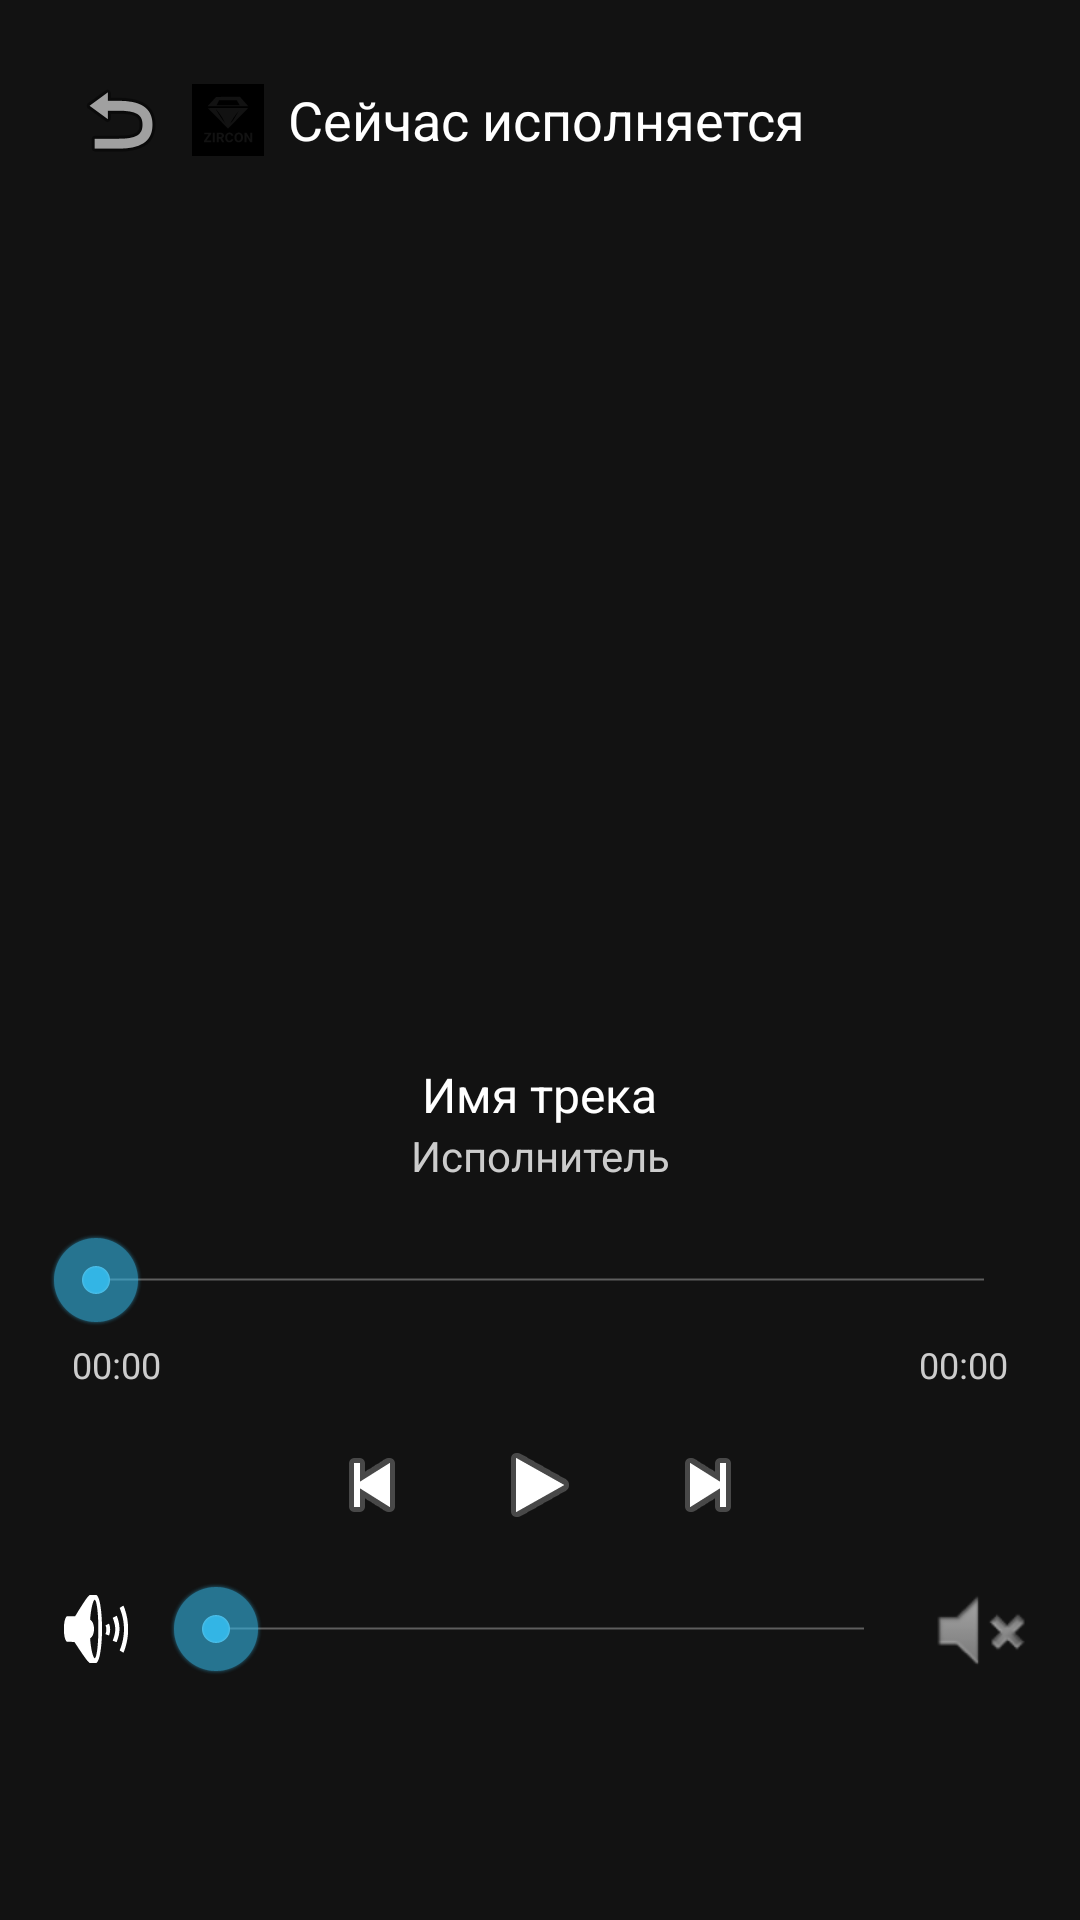

Locate icon controls on the screen. Image size 1080 x 1920, boxes as [x1,y1,x2,y2].
lock silent mode: [938,1597,1024,1664]
lock silent mode off: [64,1595,128,1663]
next: [685,1458,731,1512]
play: [511,1453,569,1517]
previous: [349,1458,395,1512]
revert: [90,92,153,149]
